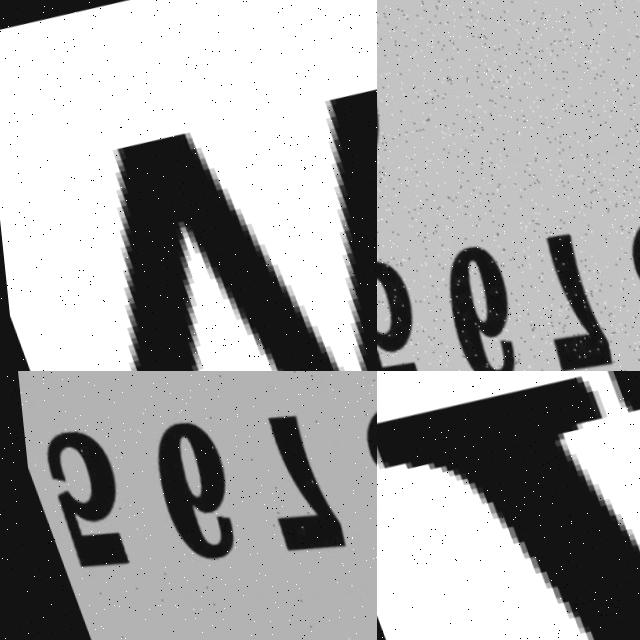0: (377, 0, 425, 203)
1: (240, 604, 377, 640)
5: (14, 394, 161, 604), (377, 226, 458, 371)
6: (111, 398, 263, 589), (397, 224, 547, 371)
7: (213, 373, 371, 580), (486, 194, 640, 371)
8: (321, 375, 377, 582), (581, 191, 640, 371)
N: (377, 371, 640, 640)
W: (0, 25, 377, 371)
